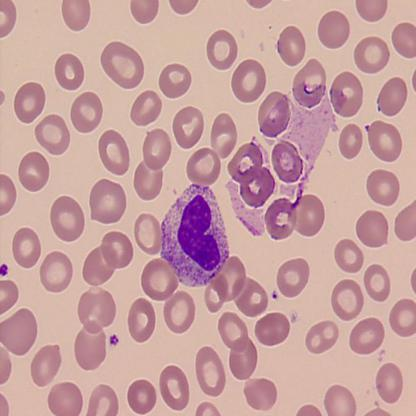Band Neutrophil: (158, 179, 231, 287)
